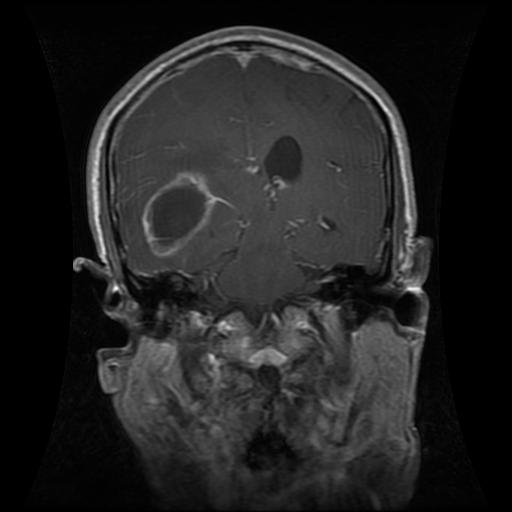Gliomia_tumour: (141, 167, 218, 258)
